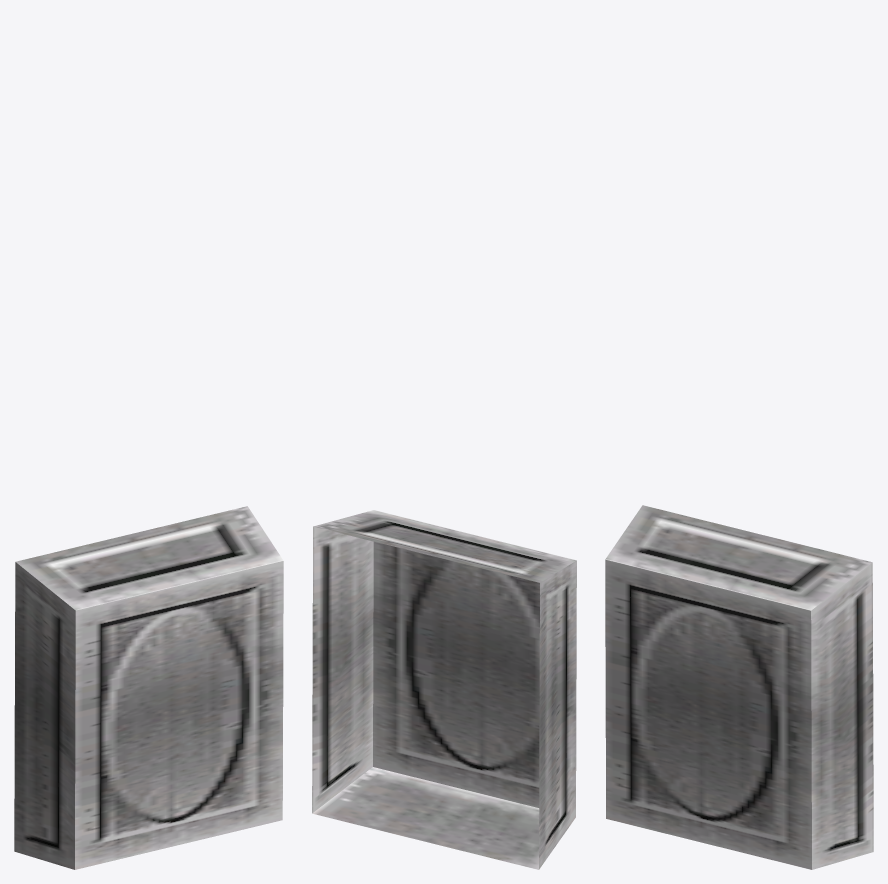
Rendered from earring_s03_l2.fbx.
3 renders of one model, left to right at view 1: azimuth 30°, elevation 25°; view 2: azimuth 150°, elevation 25°; view 3: azimuth 330°, elevation 25°, orthographic.
Parts seen in each view (by area): view 1: mesh_node; view 2: mesh_node; view 3: mesh_node.
Boxes of the visible parts, <box> form: mesh_node: <box>14,506,283,869</box>; mesh_node: <box>312,510,576,869</box>; mesh_node: <box>605,505,873,869</box>.
Size of the model in its own units: 0.0229 by 0.0779 by 0.00872.
